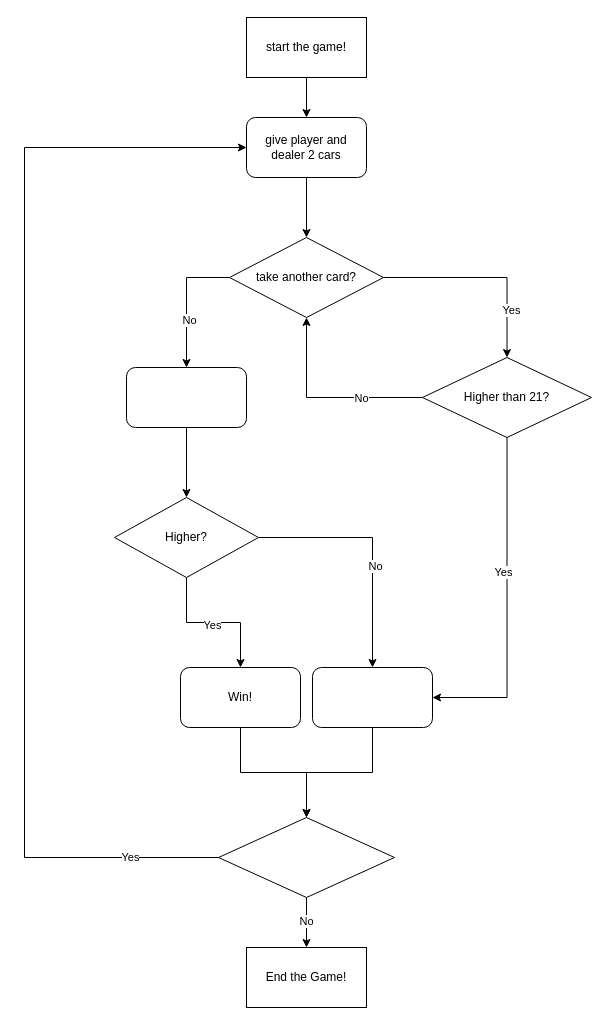
Some shapes in this 609 by 1025 pixel diagram are drawn without their labels. Here are the shapes that lost their labels. From the top down, the centre of each, then its label:
At [186,397]: "show dealers cards".
At [372,697]: "Loose!".
At [306,857]: "another round?".
